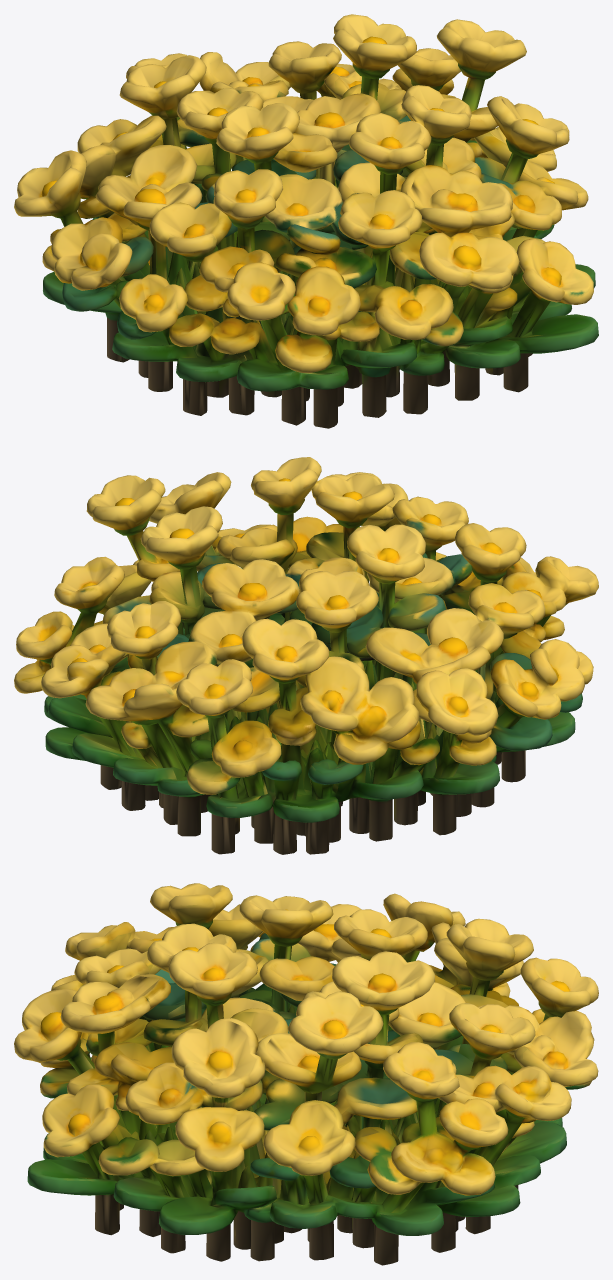
The model's file is flower-patch-yellow.glb.
3 views of the same model, one above another, from view 1: azimuth 30°, elevation 25°; view 2: azimuth 150°, elevation 25°; view 3: azimuth 270°, elevation 25° (orthographic). The views are drawn at different scales.
Parts seen in each view (by area): view 1: node_0; view 2: node_0; view 3: node_0.
Boxes of the visible parts, box(x1,y1,x2,y2) form: node_0: box(14, 14, 598, 428); node_0: box(14, 457, 598, 854); node_0: box(14, 883, 598, 1265).
Bounding box in the file's own units: 1.03 × 0.5229 × 1.04.
1 material, 1 textured.
